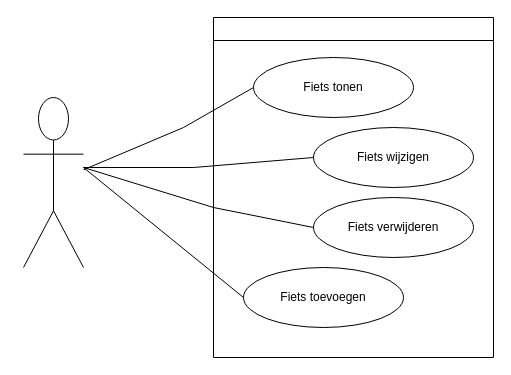
The diagram is 511 pixels wide and 375 high, and some of its shapes have lost their labels. Each missing label, with the centre of its shape:
"CRUD_fiets" belongs at point 353,187.
"Fietsenmaker" belongs at point 53,182.
